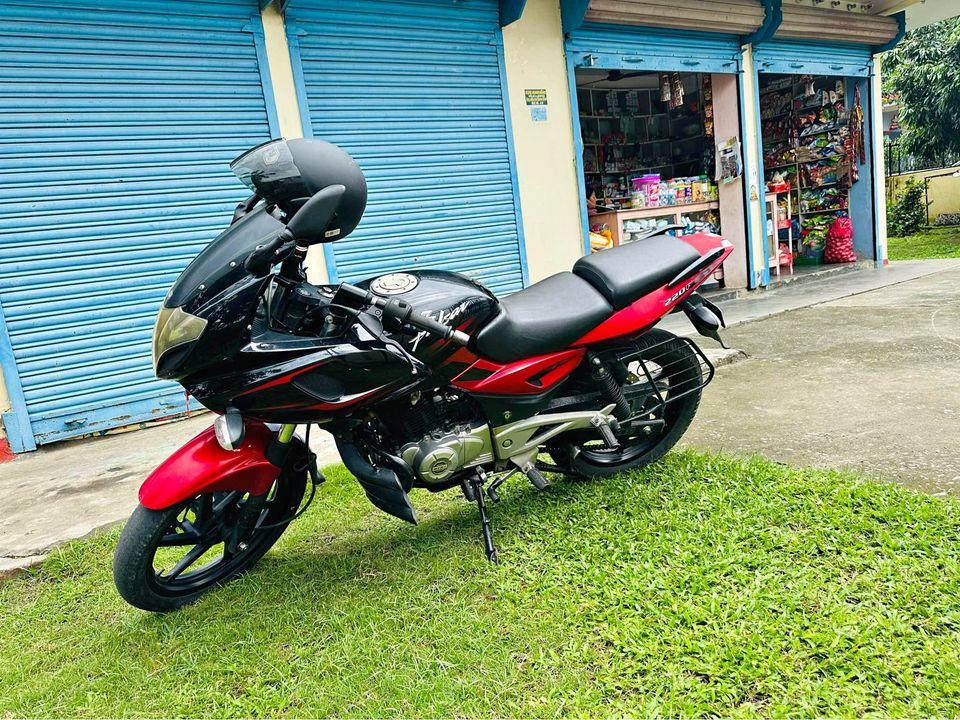bike: (97, 134, 728, 626)
